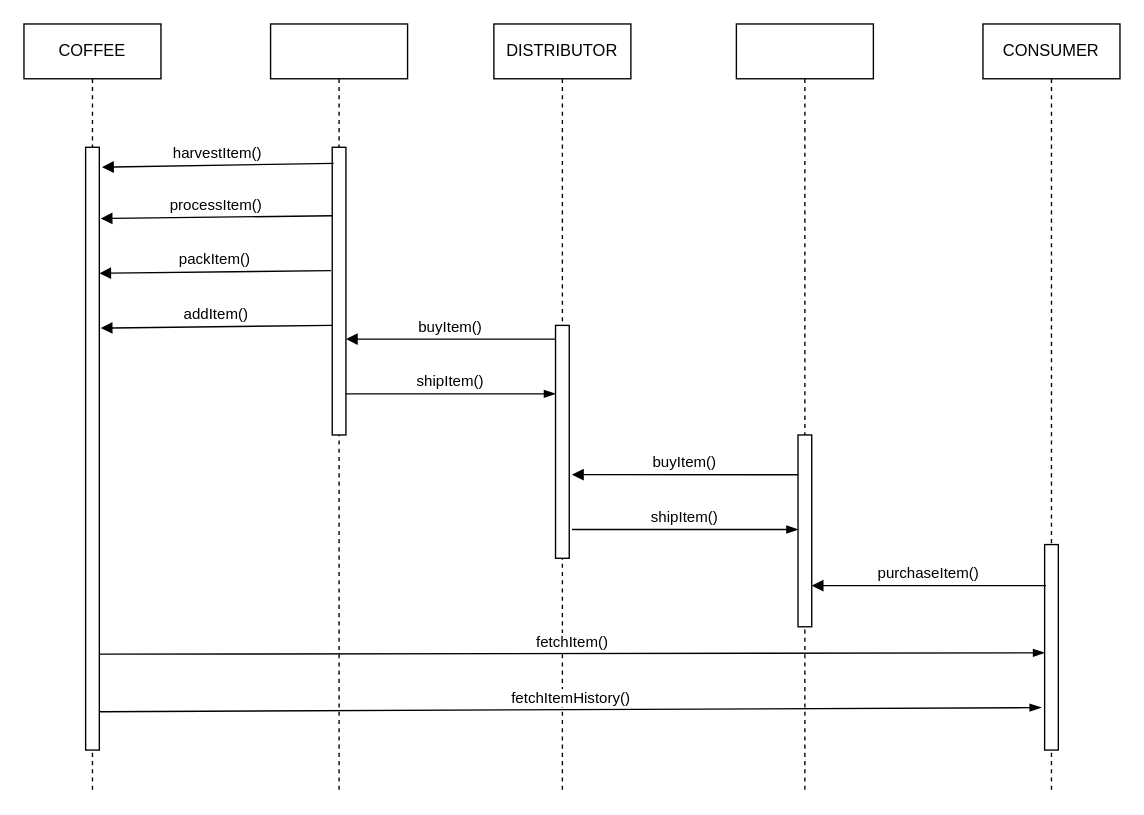
Image size: 1144x815. Some labels were removed from this diagram. The shapes that lost their labels are listed below. From the top down, each one's centre as x and y in pixels, then its label:
[338,407]: FARMER
[804,407]: RETAILER
